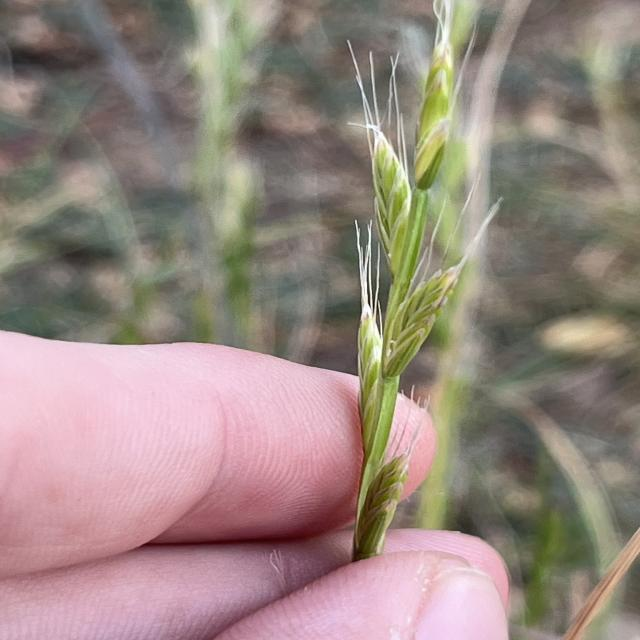Lolium: (339, 2, 514, 562)
